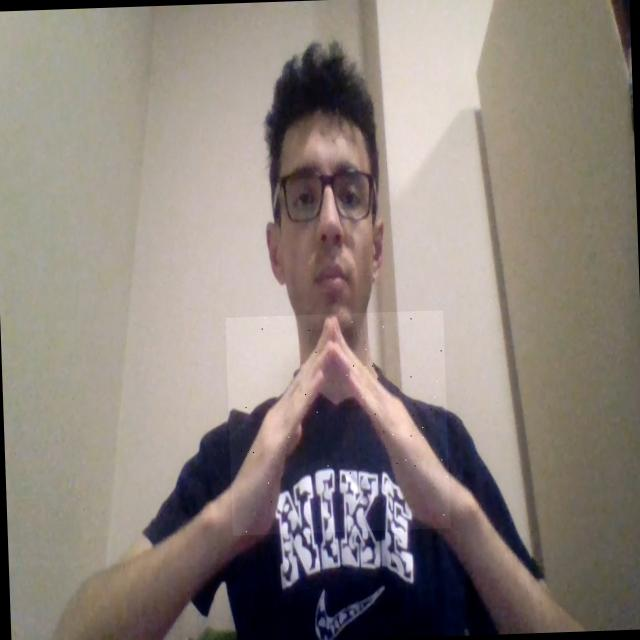house: (225, 310, 450, 535)
